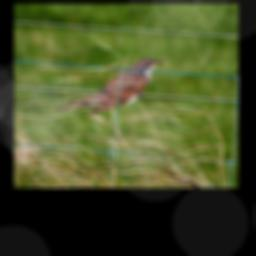Cuckoo: (54, 55, 166, 119)
